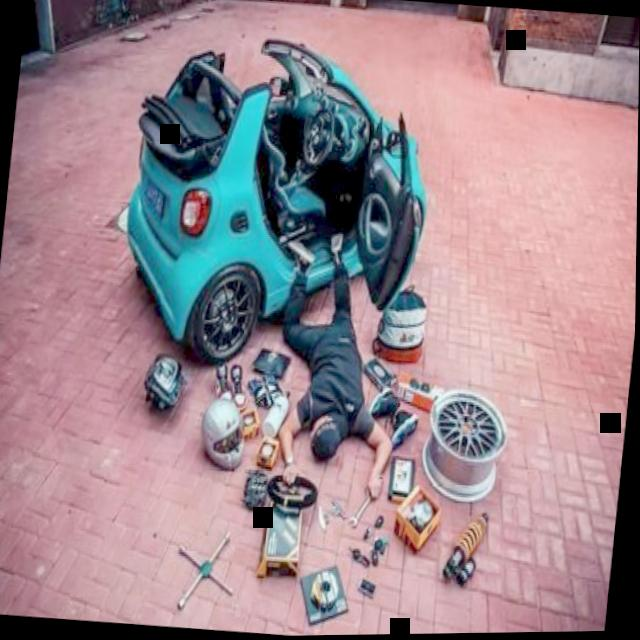Fall-Detected: (252, 202, 426, 519)
